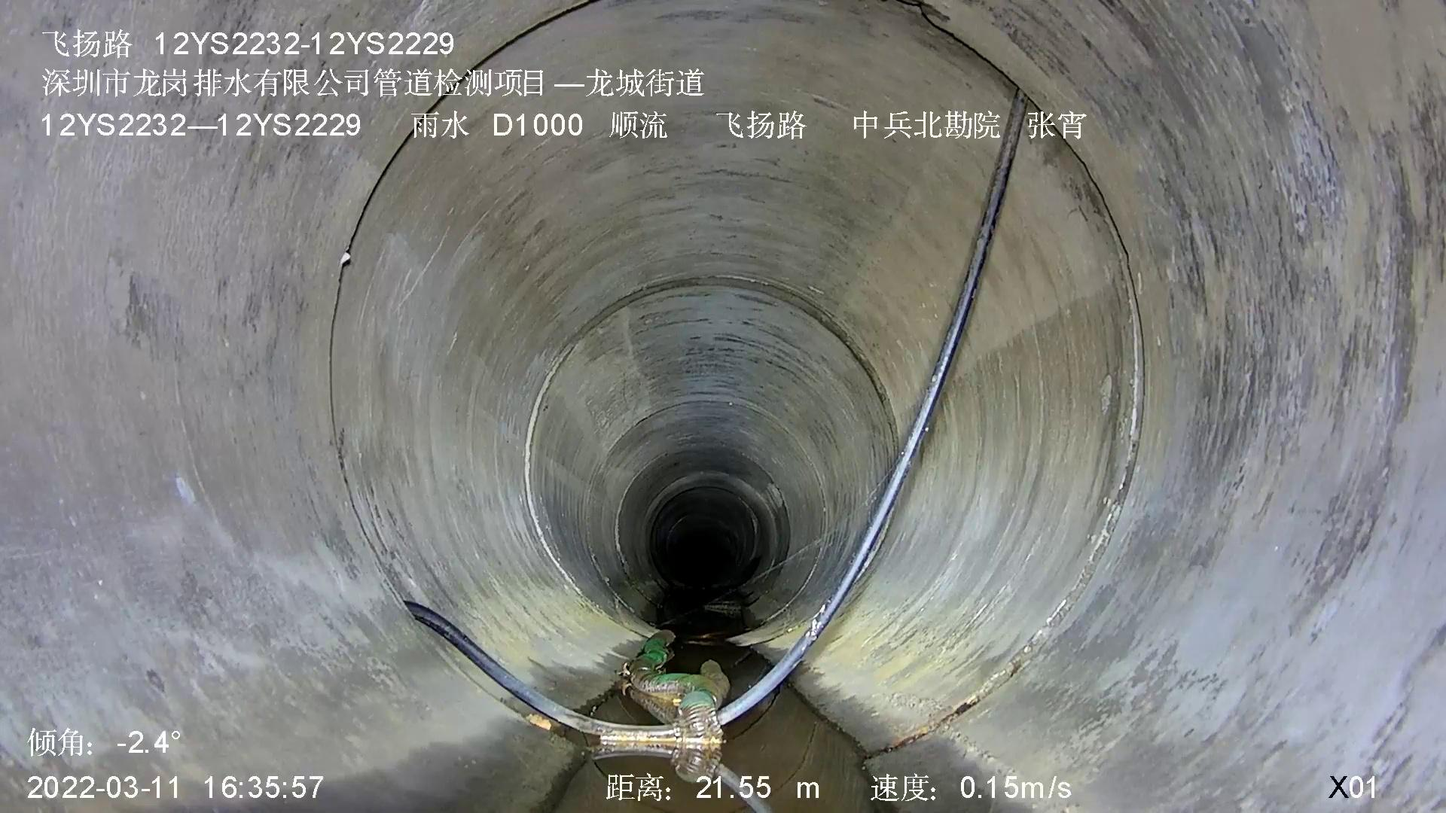YWCR: (403, 126, 1017, 812)
